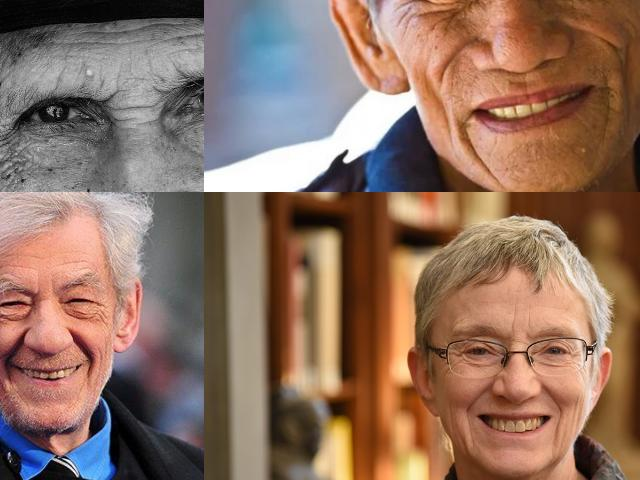crows_feet: (392, 0, 426, 27), (0, 120, 16, 169), (94, 300, 110, 328), (448, 346, 462, 366), (568, 348, 582, 368)
forehead: (72, 29, 140, 49), (167, 25, 204, 49), (54, 254, 90, 270), (1, 258, 36, 274)
frown_line: (110, 91, 158, 123), (507, 308, 517, 335), (525, 308, 535, 332)
gummy_smile: (580, 24, 628, 58), (434, 48, 464, 82), (462, 377, 492, 410), (541, 382, 565, 412), (4, 329, 26, 361), (74, 332, 95, 356)
masseter: (570, 392, 584, 426), (445, 402, 457, 434), (0, 362, 6, 390)
sad_smile: (458, 128, 488, 174), (598, 94, 616, 136), (552, 418, 564, 452), (464, 417, 478, 446)
